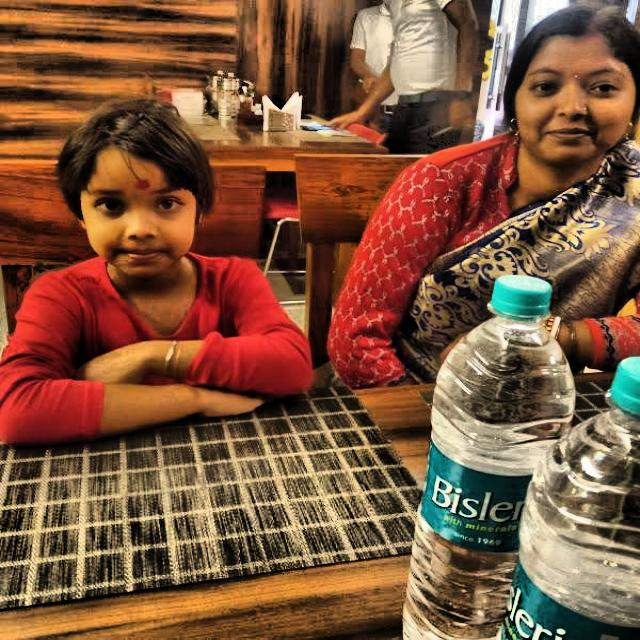Bottles: (372, 238, 570, 640)
